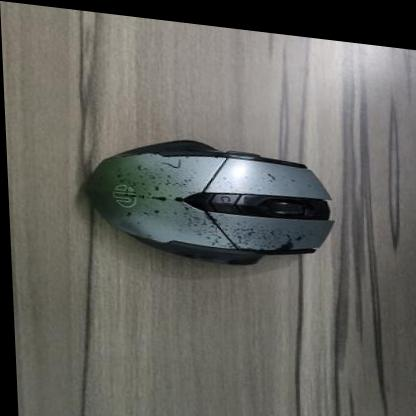mouserotation: (83, 123, 339, 268)
